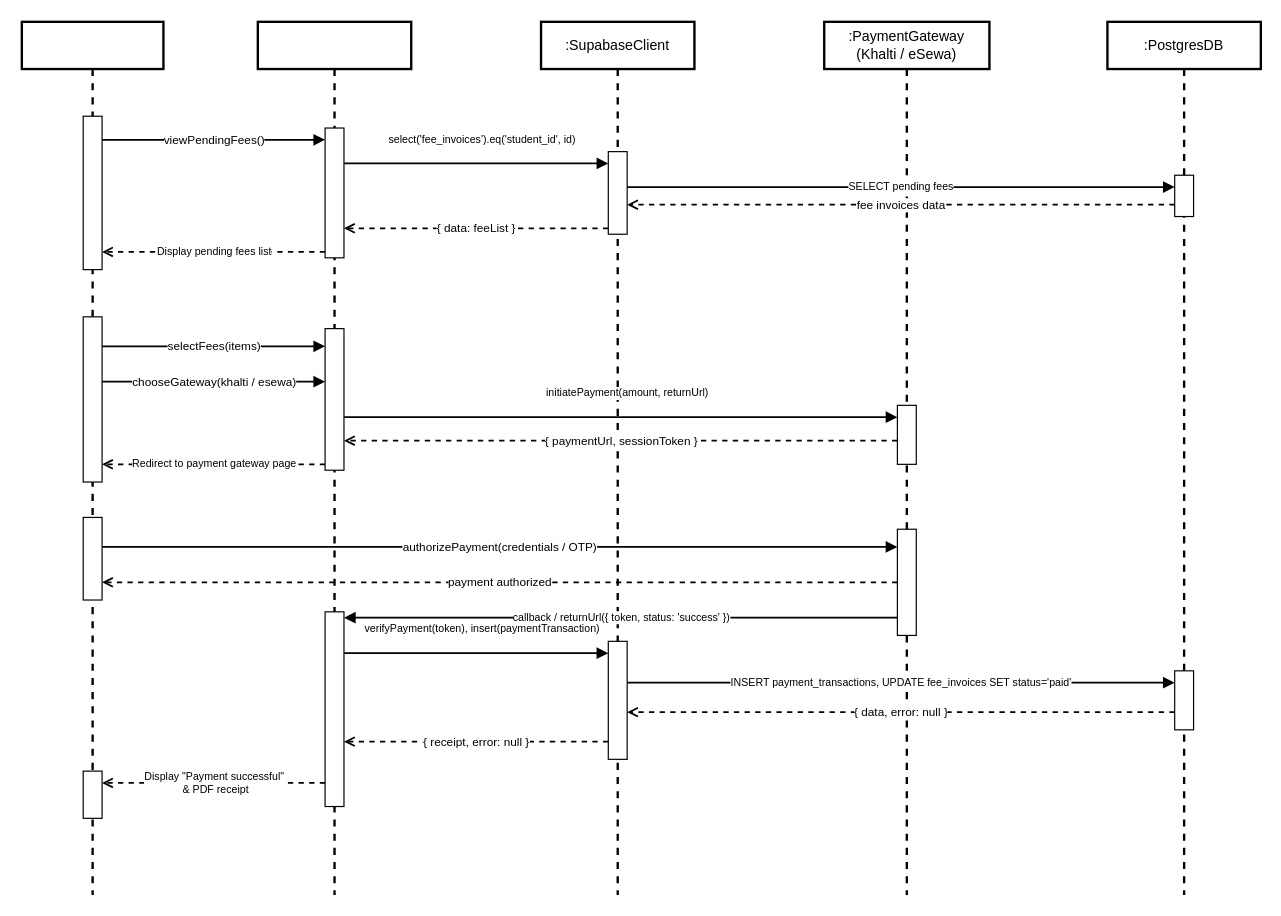
This 1281x916 diagram has some shape labels left out. The shapes that lost their labels are listed below. From the top down, each one's box as (x1, y1, x2, y2) in pixels, then its label:
(20, 20, 164, 896): Student / Parent
(256, 20, 412, 896): :FeePaymentPage
